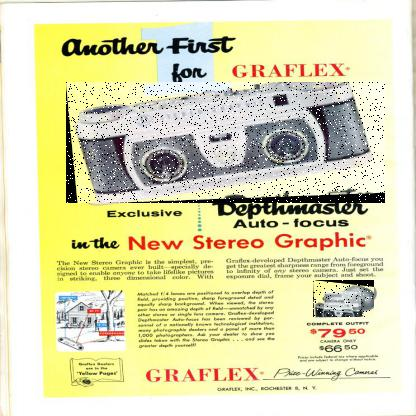Camera: (67, 83, 387, 205), (314, 282, 376, 320), (325, 292, 363, 312)
